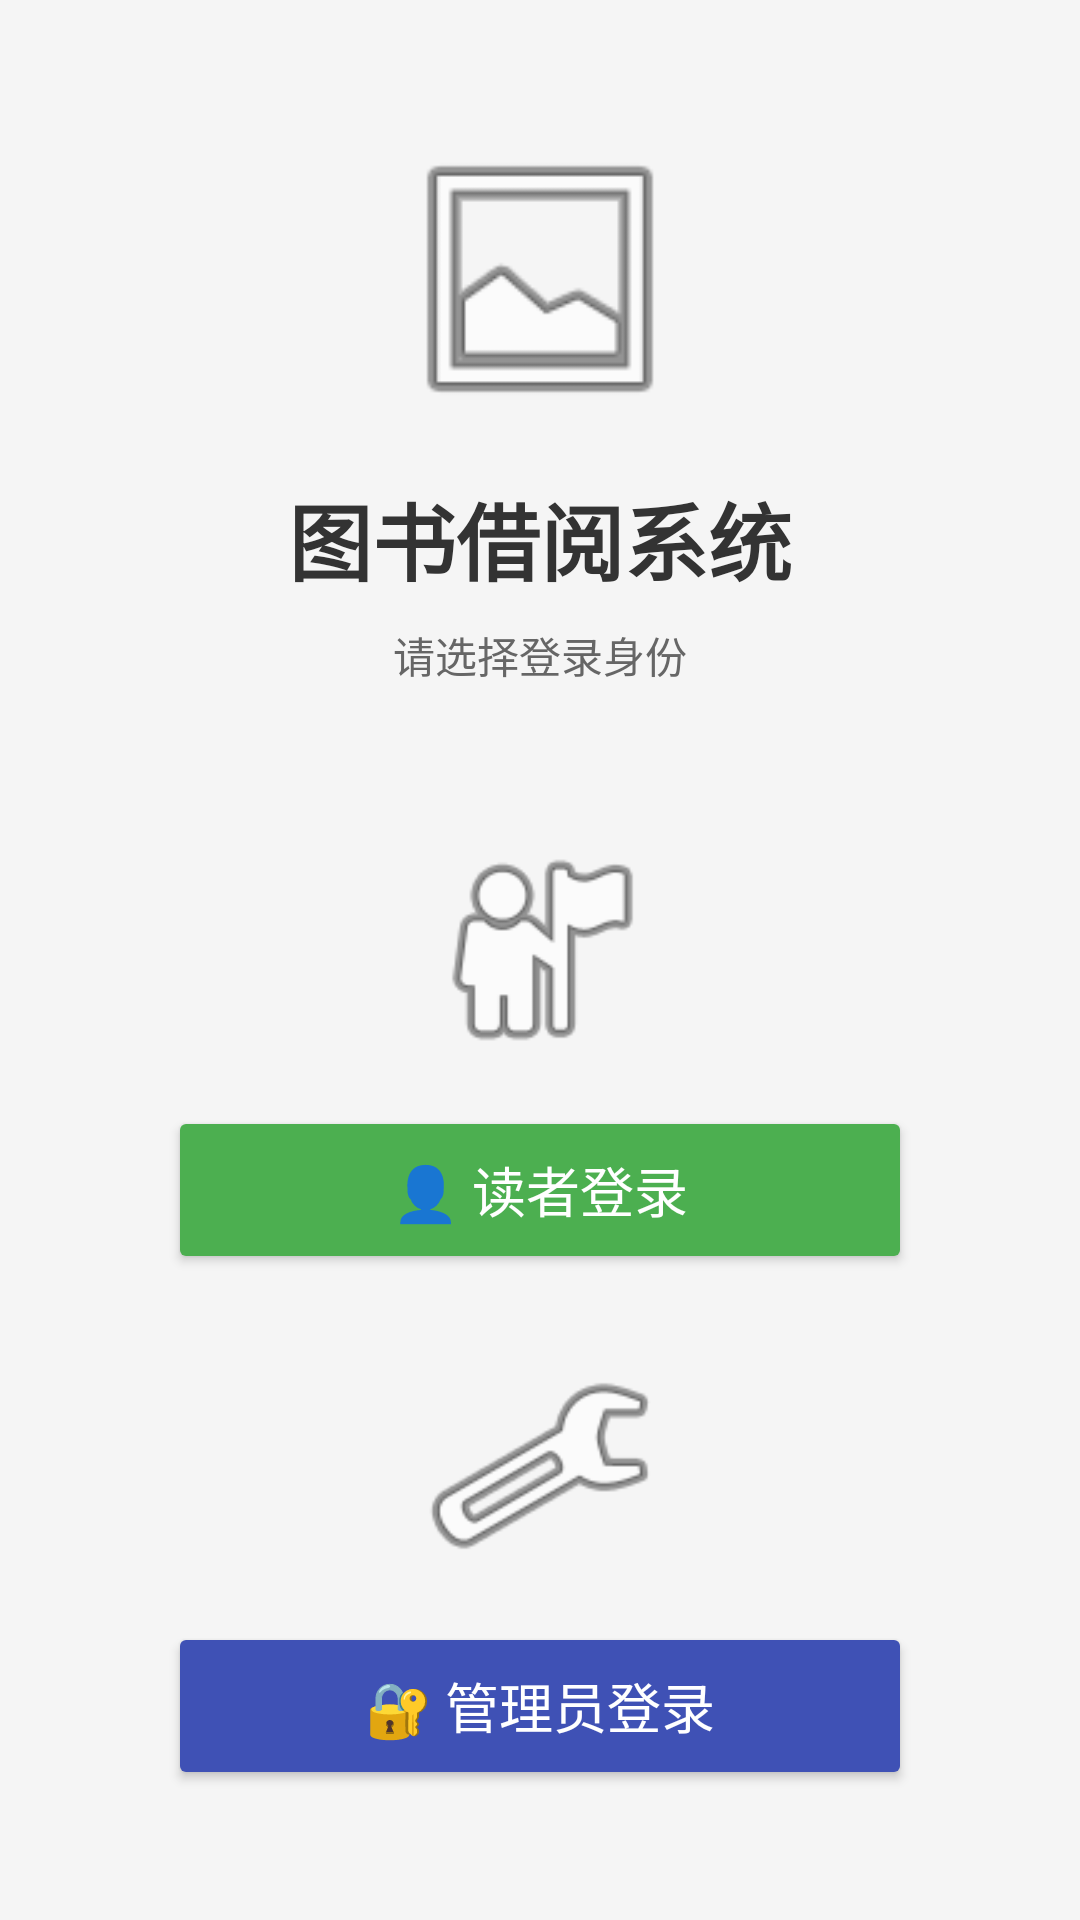

Named icons in this screenshot (1080 x 1920) and their centers, (x,y):
管理员图标: (540,1466)
读者图标: (542,950)
